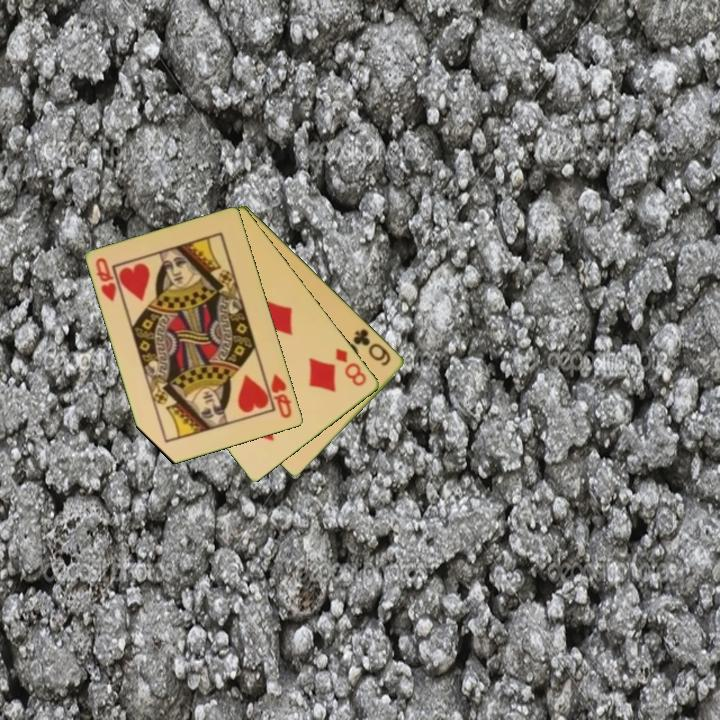6c: (350, 325, 394, 369)
8d: (332, 345, 370, 389)
Qh: (92, 254, 120, 305), (268, 370, 295, 421)
